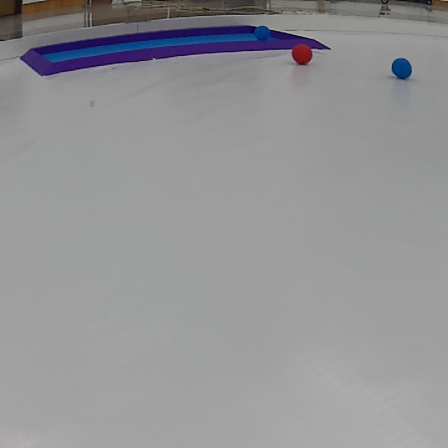blue: (390, 56, 413, 80), (255, 26, 275, 42)
blue_aim: (16, 23, 333, 78)
red: (294, 43, 314, 64)
